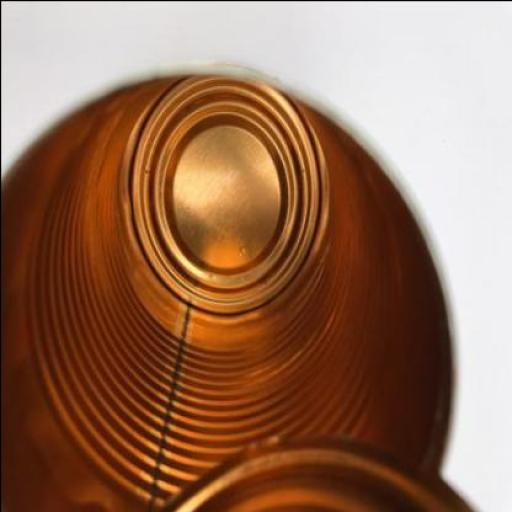metal: (1, 65, 456, 511), (152, 432, 479, 511)
